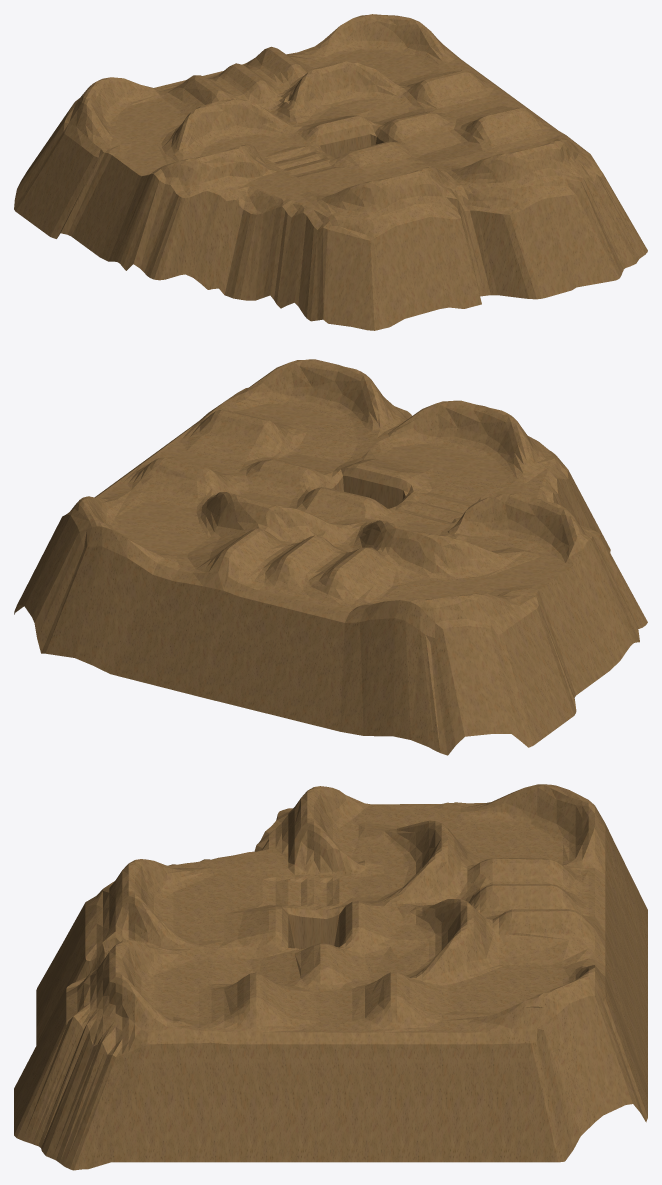
The model's file is track_col.fbx.
The picture shows the model from 3 angles, top to bottom: view 1: azimuth 30°, elevation 25°; view 2: azimuth 150°, elevation 25°; view 3: azimuth 270°, elevation 25°; orthographic projection. The views are drawn at different scales.
Visible parts, largest first — view 1: Col; view 2: Col; view 3: Col.
Part boxes in pixels (x1,y1,x2,y2): Col: (14, 14, 647, 330); Col: (14, 359, 647, 755); Col: (14, 784, 647, 1170).
Bounding box in the file's own units: 104 × 26.02 × 99.24.
Materials: 1 (1 with a texture image).
